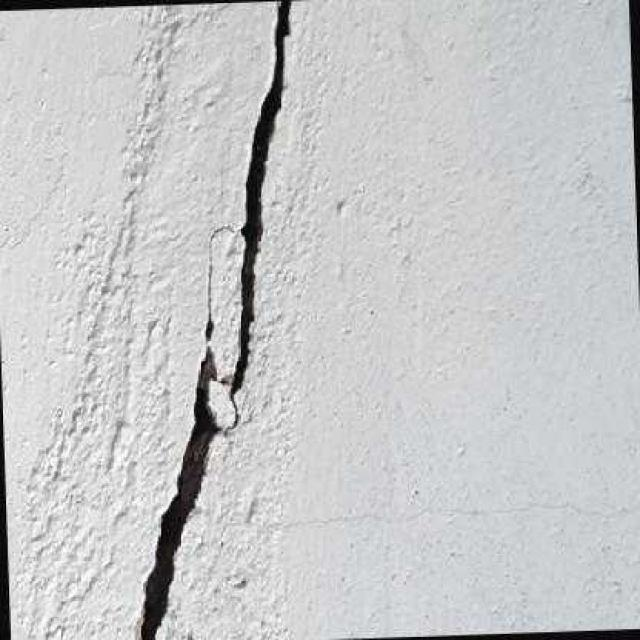D00: (139, 1, 293, 640)
